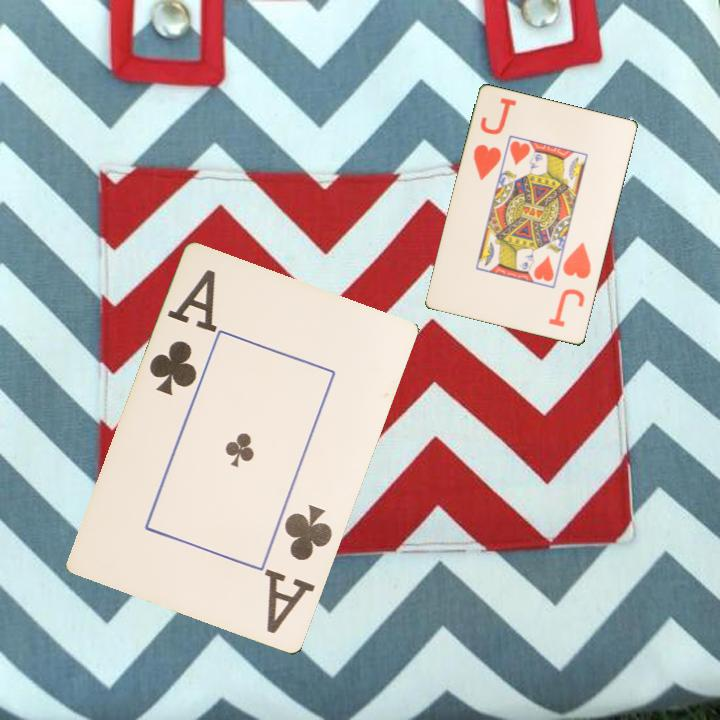Ac: (262, 501, 336, 638), (146, 266, 219, 400)
Jh: (546, 239, 594, 330), (470, 141, 505, 184)
